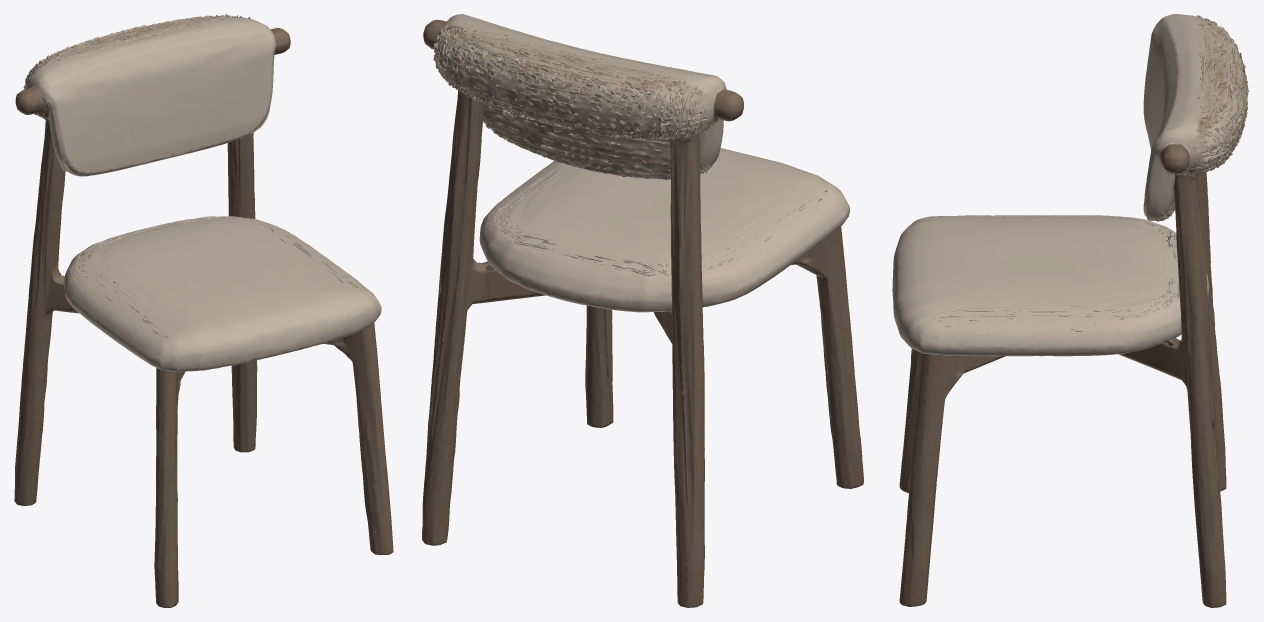
The model's file is unidentified_model_09lrou.glb.
3 renders of one model, left to right at view 1: azimuth 30°, elevation 25°; view 2: azimuth 150°, elevation 25°; view 3: azimuth 270°, elevation 25°, orthographic. The views are drawn at different scales.
Visible parts, largest first — view 1: world; view 2: world; view 3: world.
Boxes of the visible parts, x1,y1,x2,y2 form: world: (14, 14, 393, 607); world: (422, 14, 863, 607); world: (892, 14, 1249, 607).
Bounding box in the file's own units: 0.6426 × 0.9973 × 0.6756.
1 material, 1 textured.
